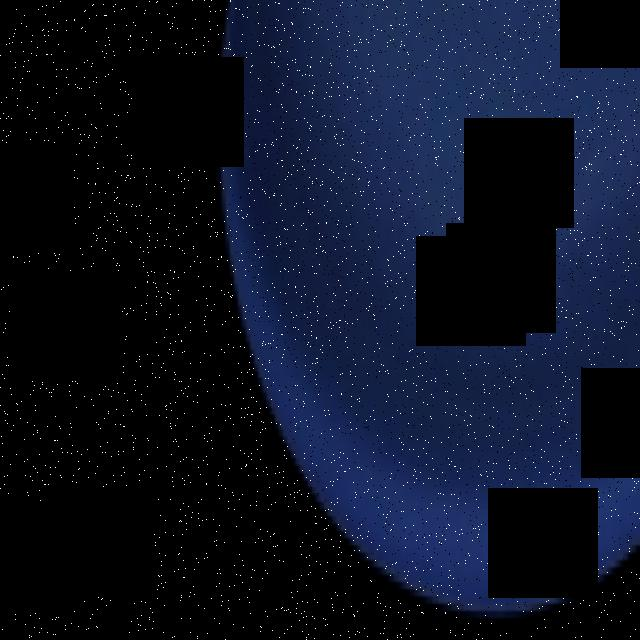Neptune: (222, 0, 640, 618)
